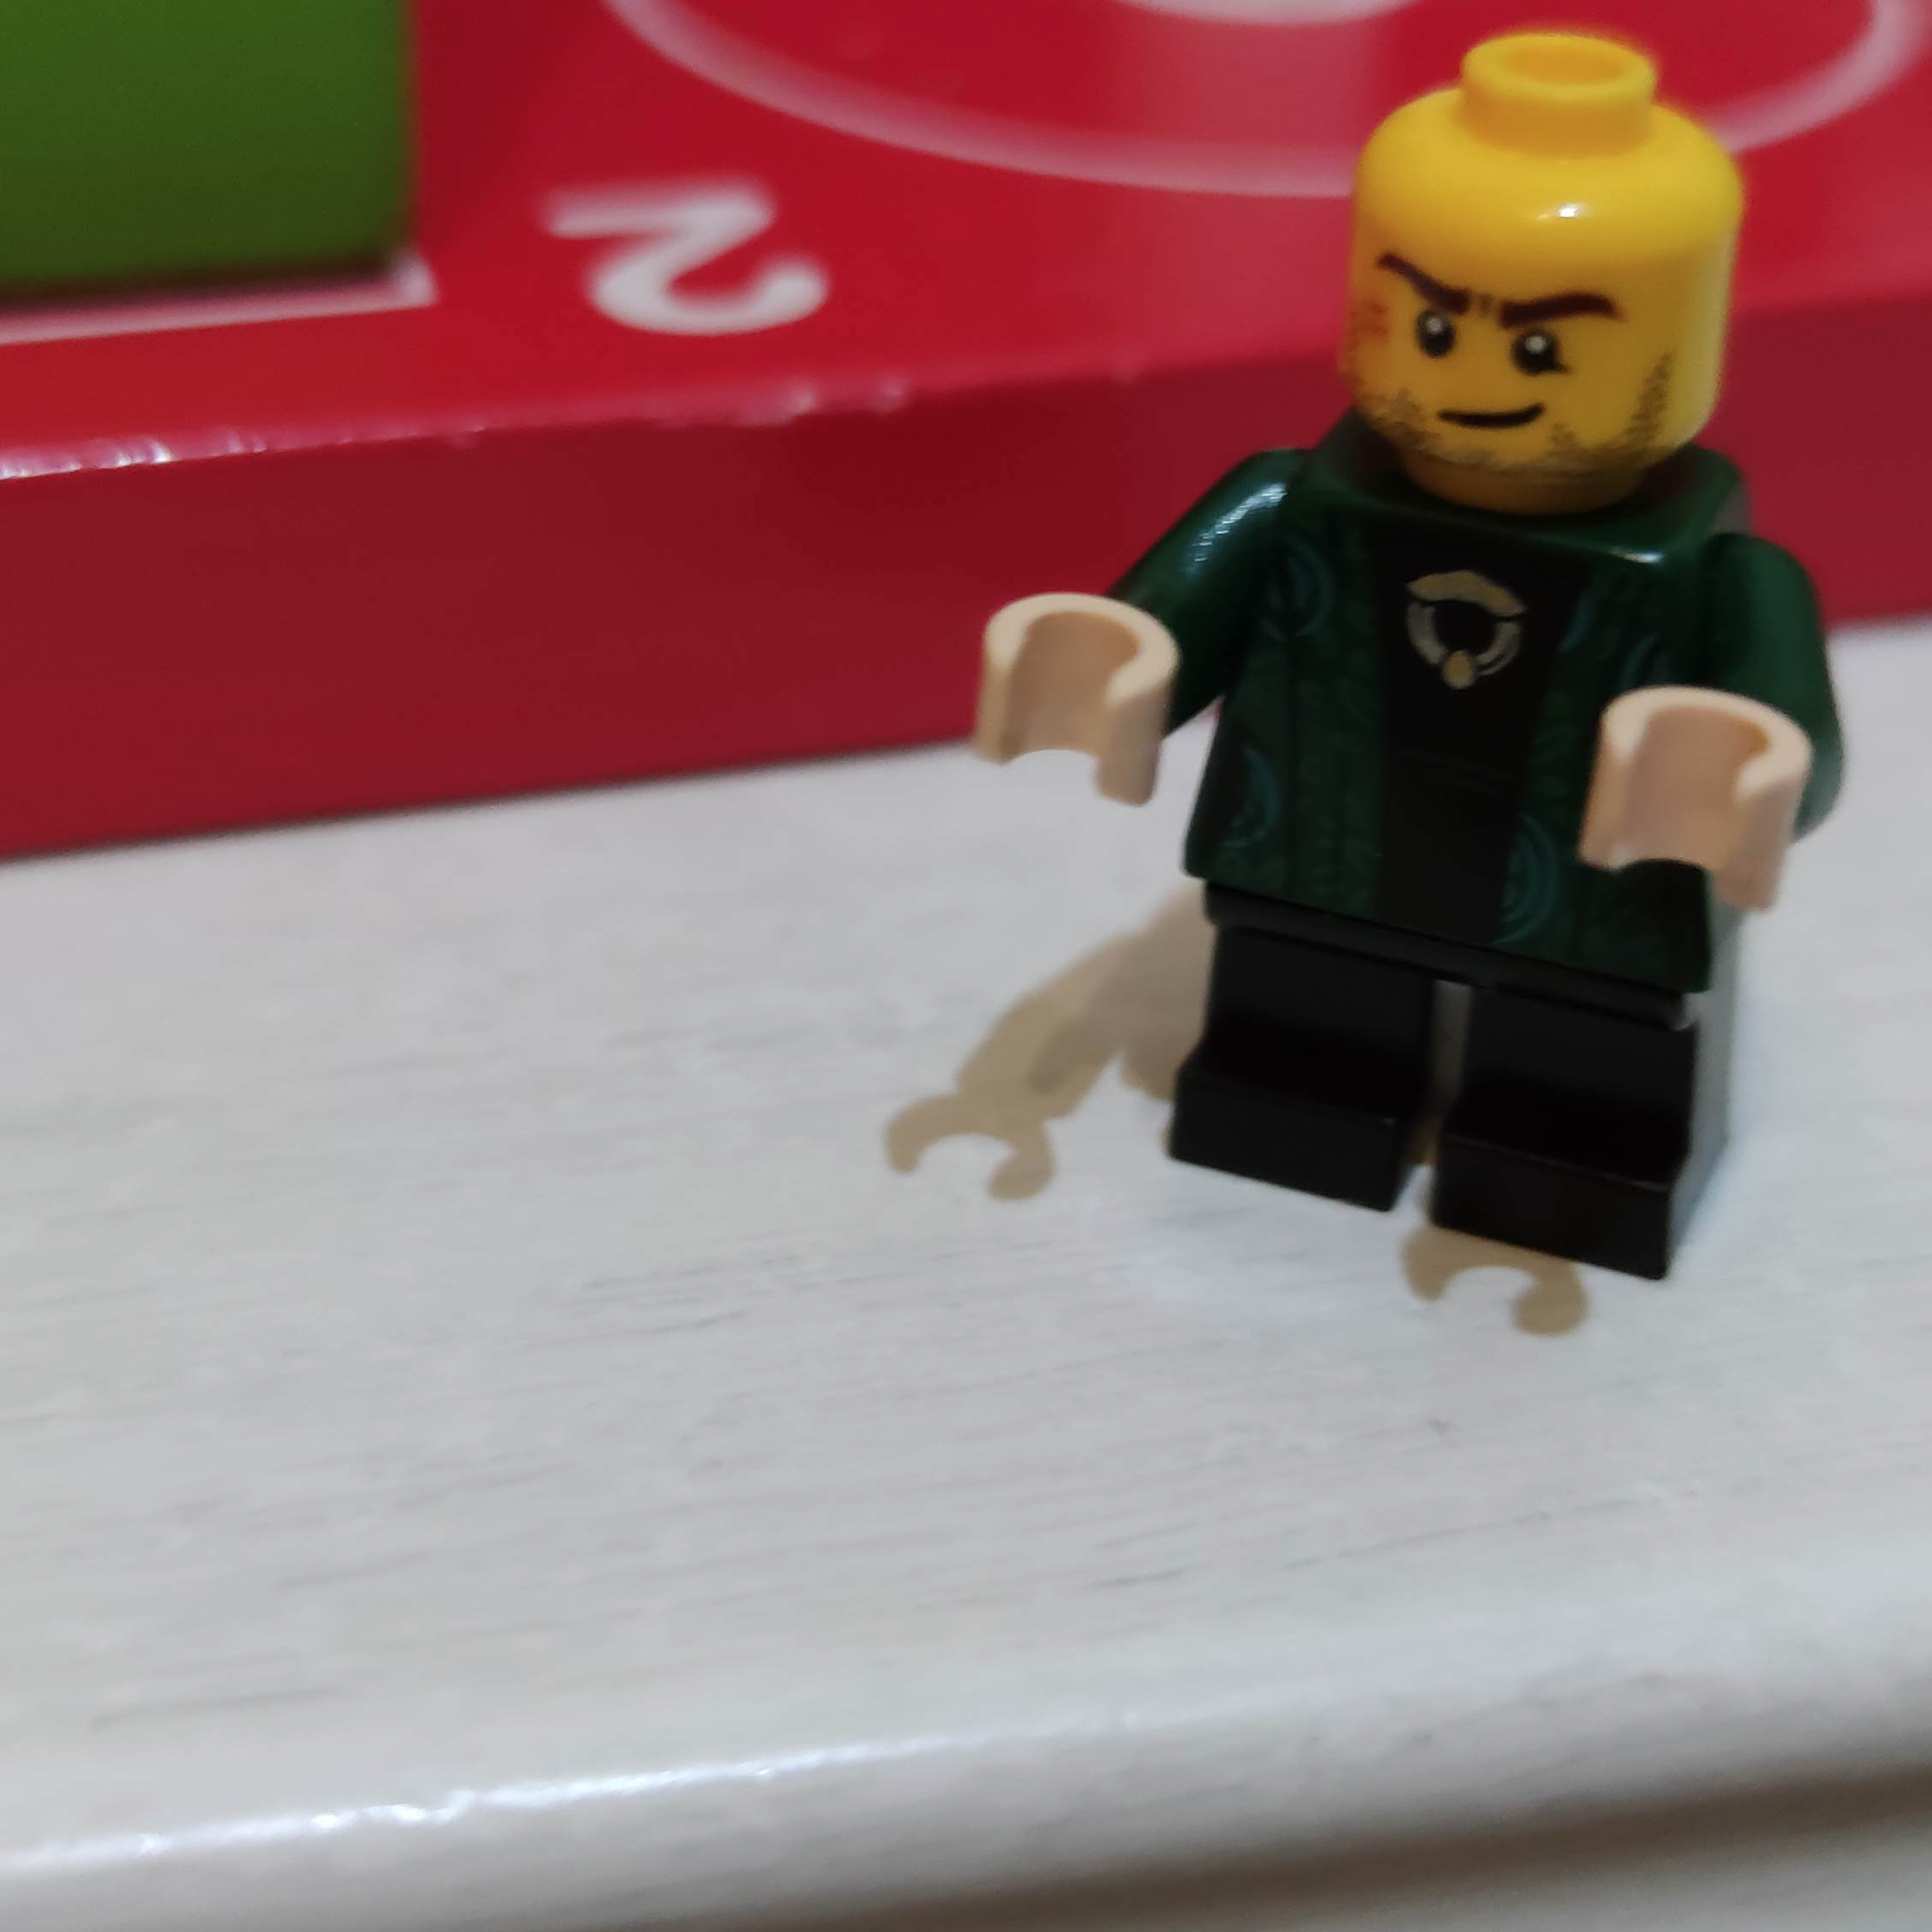lego: (971, 37, 1851, 1277)
